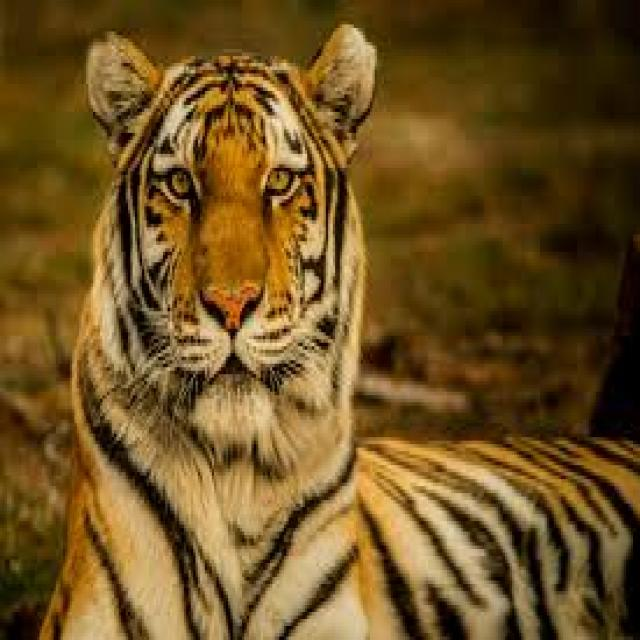Animal: (42, 24, 640, 640)
